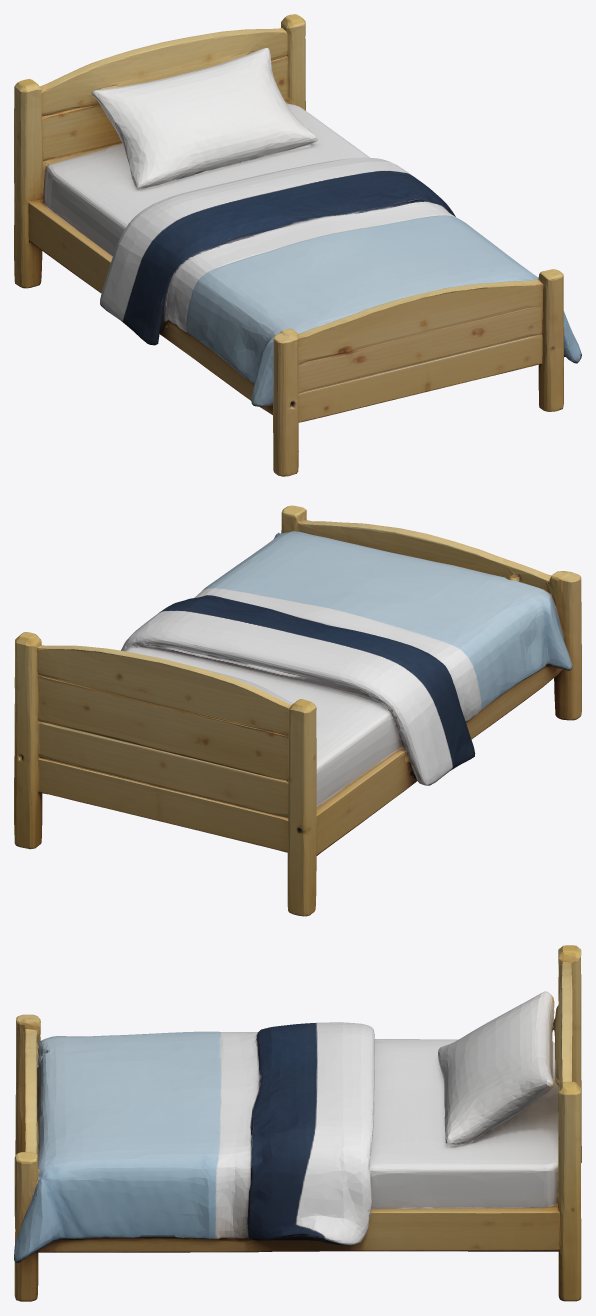
3 renders of one model, top to bottom at view 1: azimuth 30°, elevation 25°; view 2: azimuth 150°, elevation 25°; view 3: azimuth 270°, elevation 25°, orthographic. The views are drawn at different scales.
Visible parts, largest first — view 1: world; view 2: world; view 3: world.
Boxes of the visible parts, bbox=[...] form: world: bbox=[14, 14, 581, 476]; world: bbox=[14, 505, 581, 916]; world: bbox=[14, 945, 581, 1301].
Bounding box in the file's own units: 0.7037 × 0.4226 × 0.9941.
1 material, 1 textured.
